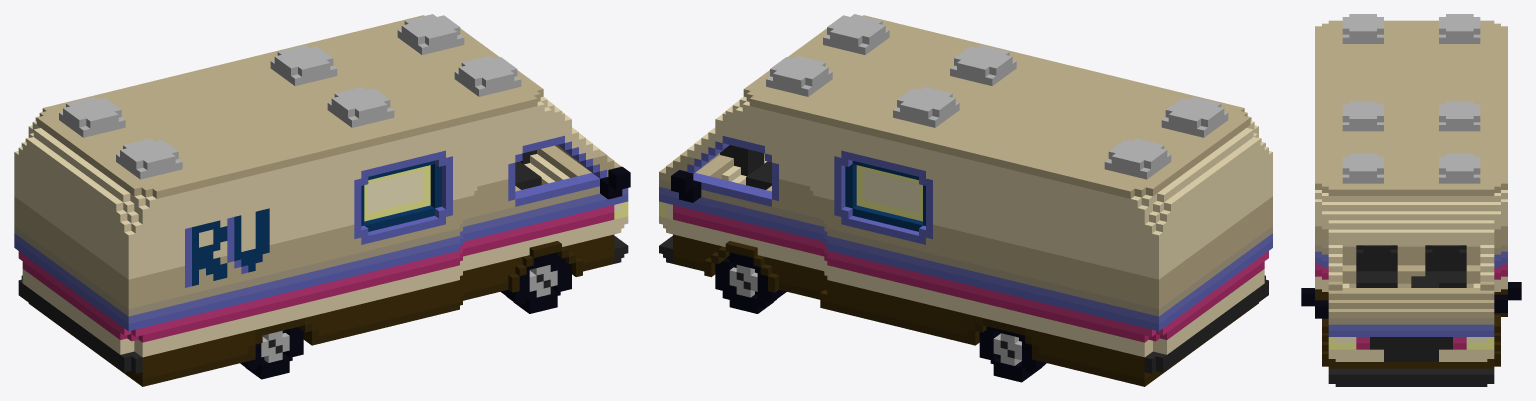
File: rv.vox.obj
3 renders of one model, left to right at view 1: azimuth 30°, elevation 25°; view 2: azimuth 150°, elevation 25°; view 3: azimuth 270°, elevation 25°, orthographic. The views are drawn at different scales.
Size of the model in its own units: 7.2 by 3.2 by 3.2.
Materials: 1 (1 with a texture image).
